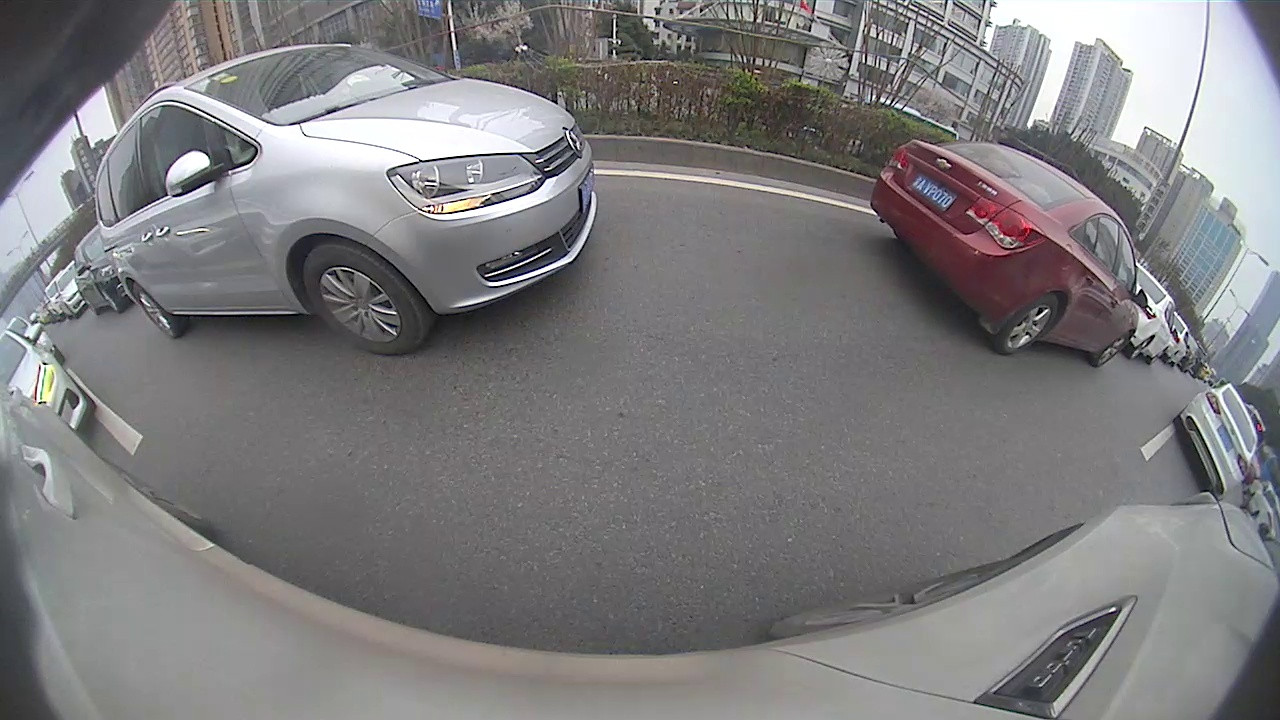bus: (1, 173, 145, 449)
car: (819, 116, 1279, 486), (486, 154, 551, 180), (657, 157, 689, 182), (627, 161, 650, 178)
front: (821, 199, 864, 261)
rear: (1045, 305, 1173, 452)
